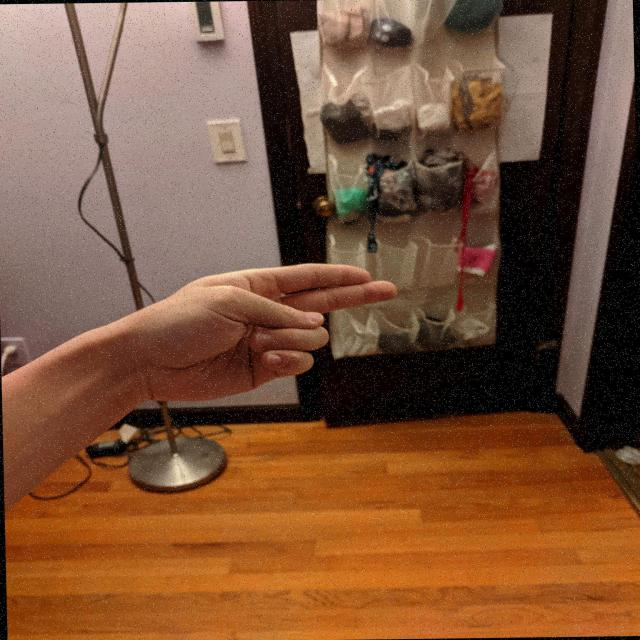H: (138, 257, 409, 412)
